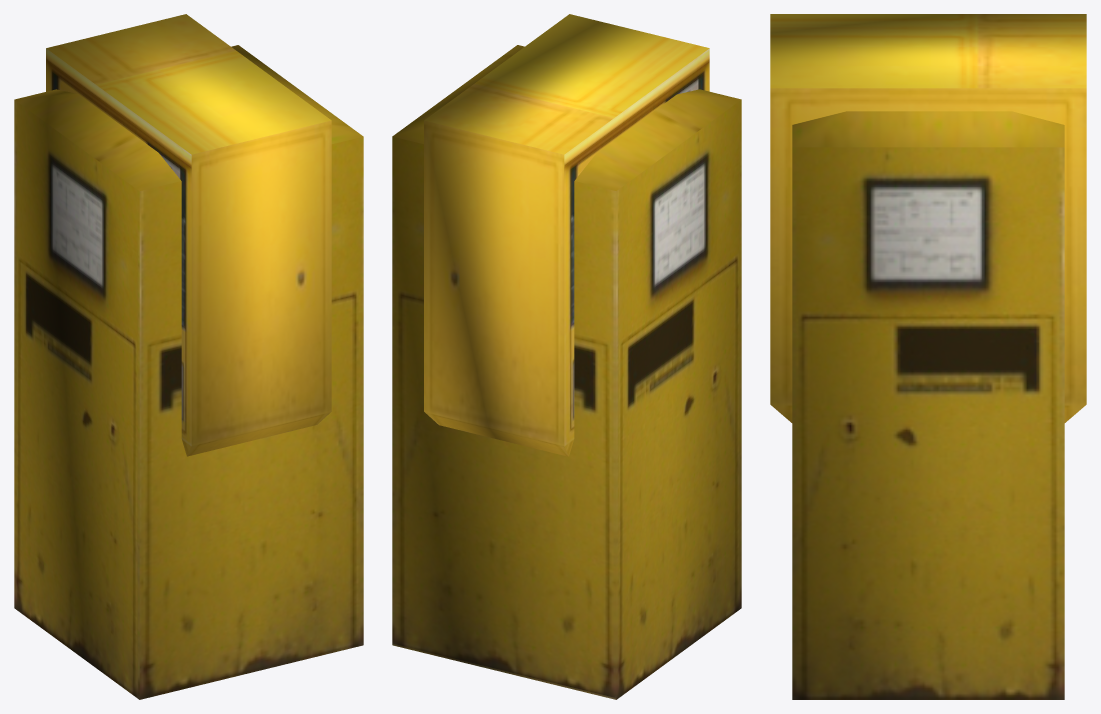
The model's file is briefkasten.fbx.
3 renders of one model, left to right at view 1: azimuth 30°, elevation 25°; view 2: azimuth 150°, elevation 25°; view 3: azimuth 270°, elevation 25°, orthographic. The views are drawn at different scales.
Visible parts, largest first — view 1: Mesh (2), Mesh; view 2: Mesh (2), Mesh; view 3: Mesh (2), Mesh.
Part boxes in pixels (bbox=[...]): Mesh (2): bbox=[14, 45, 363, 699]; Mesh: bbox=[46, 14, 331, 456]; Mesh (2): bbox=[392, 45, 741, 699]; Mesh: bbox=[424, 14, 709, 456]; Mesh (2): bbox=[792, 111, 1064, 699]; Mesh: bbox=[770, 14, 1086, 422].
Size of the model in its own units: 54.5 by 126 by 61.3.
